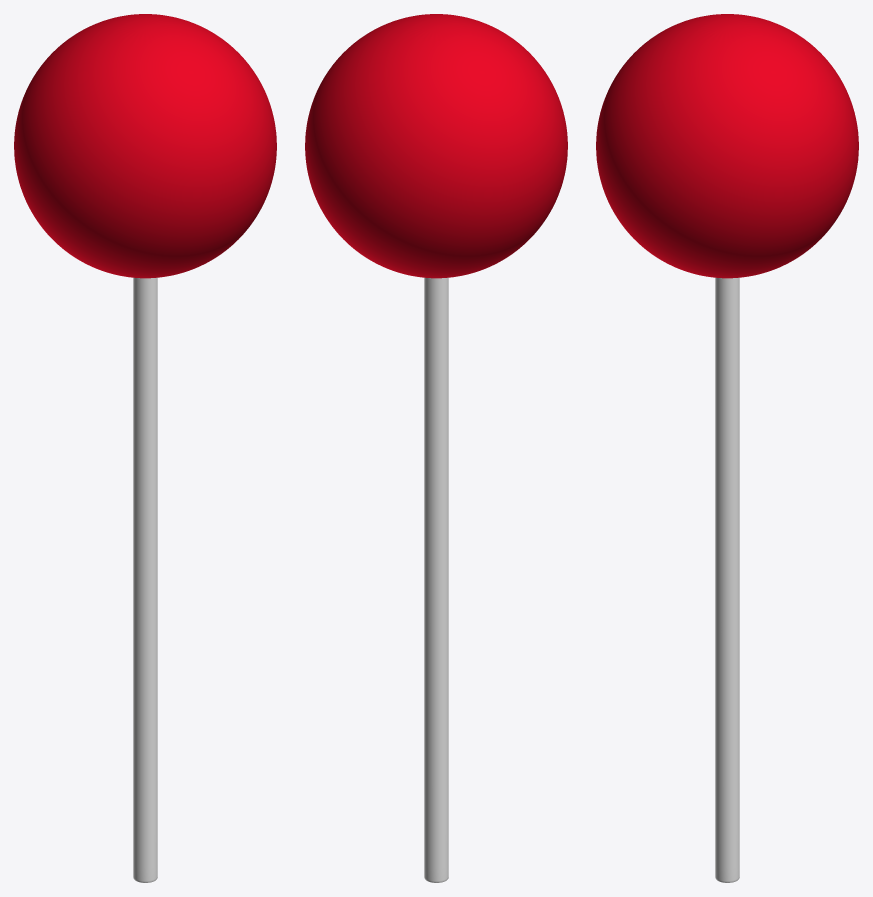
The model's file is lolipop.glb.
The picture shows the model from 3 angles, left to right: view 1: azimuth 30°, elevation 25°; view 2: azimuth 150°, elevation 25°; view 3: azimuth 270°, elevation 25°; orthographic projection.
Parts seen in each view (by area): view 1: lolipop_0, Plastic_1; view 2: lolipop_0, Plastic_1; view 3: lolipop_0, Plastic_1.
Part boxes in pixels (bbox=[...]): lolipop_0: bbox=[14, 14, 276, 278]; Plastic_1: bbox=[133, 277, 157, 882]; lolipop_0: bbox=[305, 14, 567, 278]; Plastic_1: bbox=[424, 277, 448, 882]; lolipop_0: bbox=[596, 14, 858, 278]; Plastic_1: bbox=[715, 277, 739, 882].
Size of the model in its own units: 0.027 by 0.0965 by 0.027.
